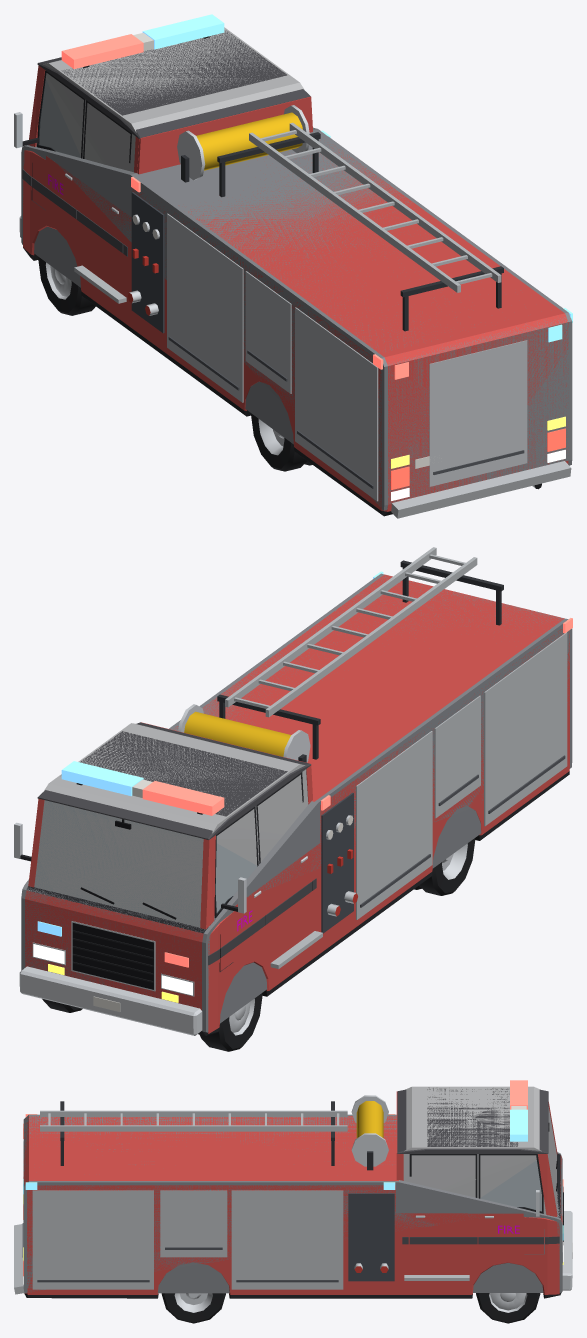
The model's file is car_firetruck.glb.
The picture shows the model from 3 angles, top to bottom: view 1: azimuth 30°, elevation 25°; view 2: azimuth 150°, elevation 25°; view 3: azimuth 270°, elevation 25°; orthographic projection. The views are drawn at different scales.
Visible parts, largest first — view 1: car_firetruck__body, car_firetruck__col_body, car_firetruck__col_cabin, car_firetruck__door_fl, car_firetruck__wheel_fl, car_firetruck__wheel_rl, car_firetruck__door_rl; view 2: car_firetruck__body, car_firetruck__col_cabin, car_firetruck__col_body, car_firetruck__door_fl, car_firetruck__wheel_fl, car_firetruck__door_rl, car_firetruck__wheel_rl; view 3: car_firetruck__body, car_firetruck__col_body, car_firetruck__col_cabin, car_firetruck__door_fr, car_firetruck__wheel_rr, car_firetruck__wheel_fr, car_firetruck__door_rr.
Boxes of the visible parts, x1,y1,x2,y2 form: car_firetruck__body: [19, 14, 572, 518]; car_firetruck__col_body: [21, 127, 572, 510]; car_firetruck__col_cabin: [36, 27, 304, 172]; car_firetruck__door_fl: [14, 70, 85, 231]; car_firetruck__wheel_fl: [38, 257, 95, 315]; car_firetruck__wheel_rl: [251, 413, 312, 471]; car_firetruck__door_rl: [76, 100, 131, 261]; car_firetruck__body: [19, 547, 572, 1035]; car_firetruck__col_cabin: [34, 723, 308, 927]; car_firetruck__col_body: [21, 573, 572, 1032]; car_firetruck__door_fl: [214, 806, 265, 971]; car_firetruck__wheel_fl: [200, 993, 262, 1051]; car_firetruck__door_rl: [256, 772, 311, 925]; car_firetruck__wheel_rl: [414, 838, 475, 895]; car_firetruck__body: [14, 1080, 572, 1298]; car_firetruck__col_body: [23, 1114, 562, 1293]; car_firetruck__col_cabin: [403, 1086, 556, 1213]; car_firetruck__door_fr: [478, 1154, 543, 1253]; car_firetruck__wheel_rr: [161, 1293, 225, 1323]; car_firetruck__wheel_fr: [476, 1293, 540, 1323]; car_firetruck__door_rr: [409, 1154, 477, 1253].
Size of what is drawn, in the model's own units: 3.06 by 3.16 by 8.71.
Materials: 12 (2 with a texture image).
